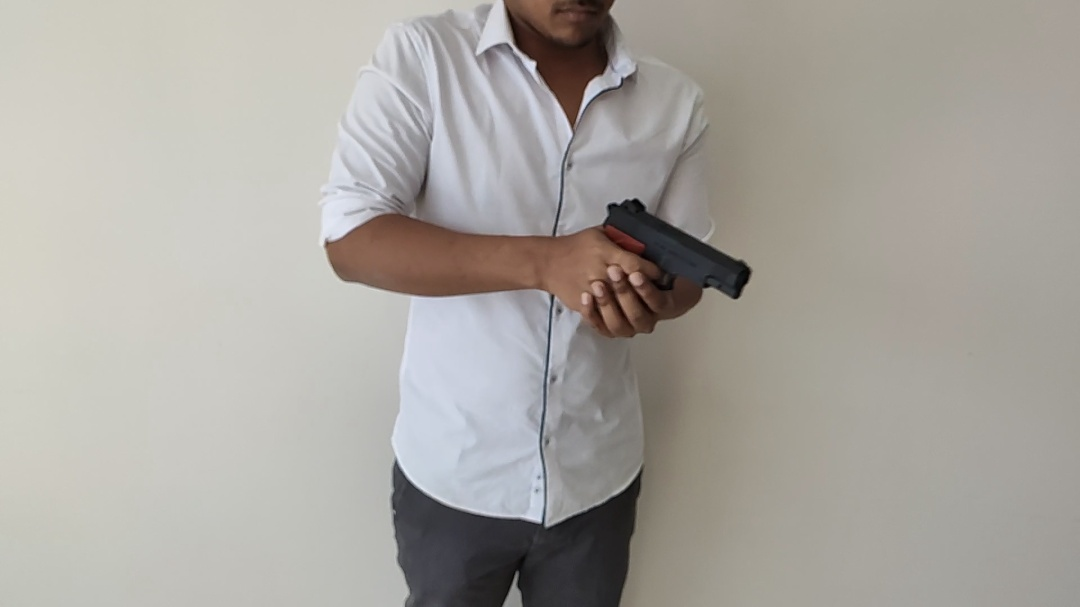gun: (603, 194, 755, 299)
